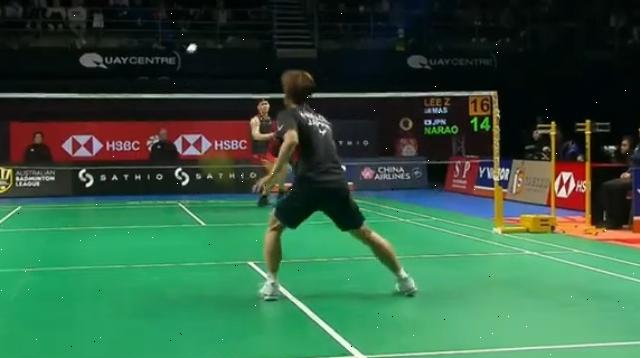Shuttlecock: (182, 38, 204, 54)
